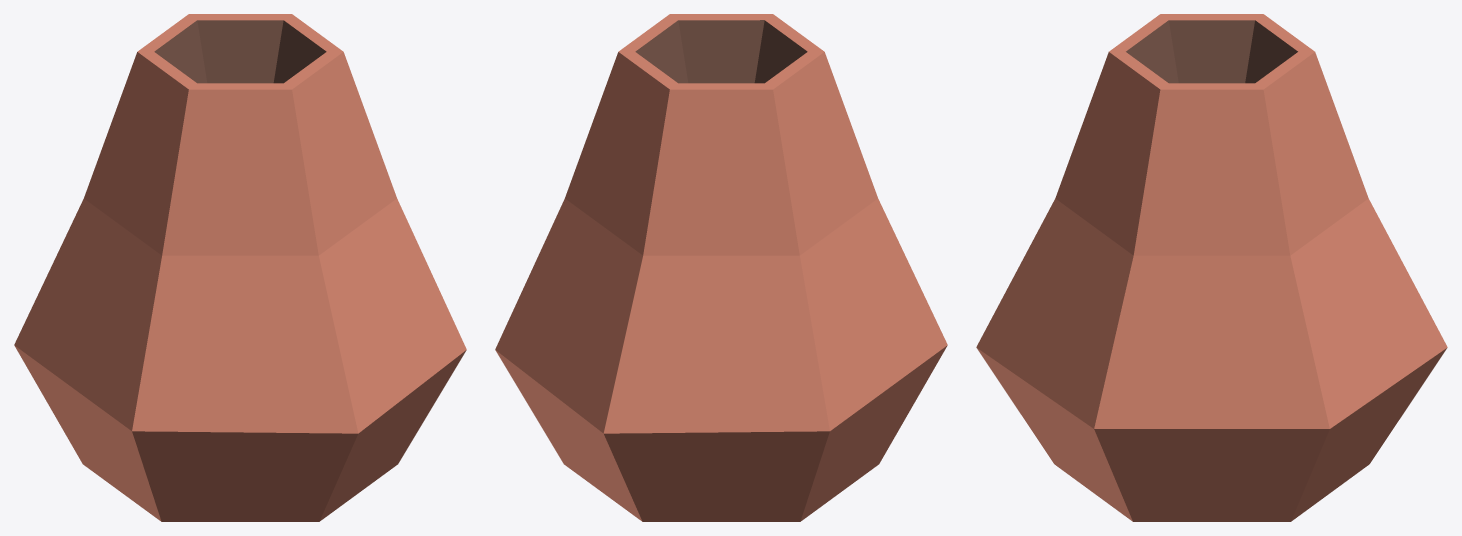
Rendered from animal_016.glb.
3 views of the same model, side by side, from view 1: azimuth 30°, elevation 25°; view 2: azimuth 150°, elevation 25°; view 3: azimuth 270°, elevation 25° (orthographic).
Visible parts, largest first — view 1: animal_016; view 2: animal_016; view 3: animal_016.
Part boxes in pixels (left/top/right/bottom): animal_016: left=14, top=14, right=466, bottom=521; animal_016: left=495, top=14, right=947, bottom=521; animal_016: left=976, top=14, right=1447, bottom=521.
Size of the model in its own units: 0.6566 by 0.773 by 0.8008.
1 material, 1 textured.
